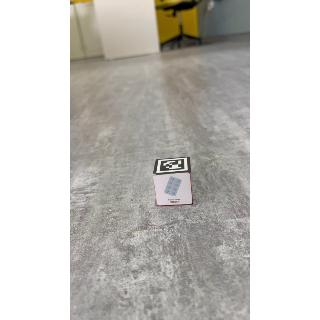Tablet: (153, 172, 195, 207)
